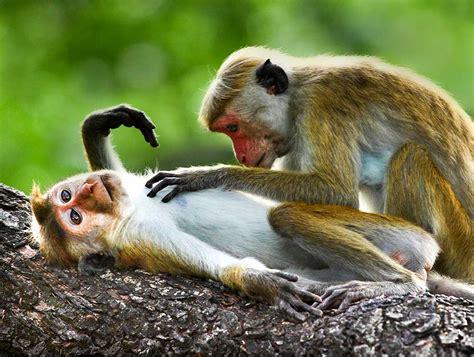monkey: (32, 104, 474, 319), (146, 47, 473, 278)
